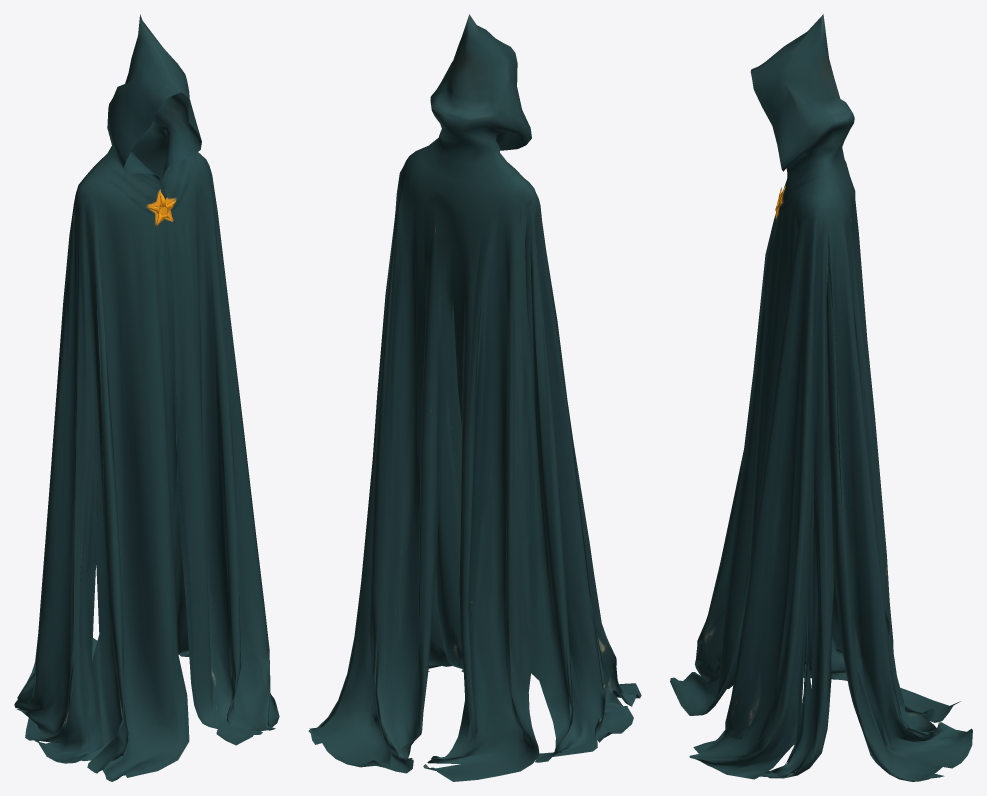
Rendered from dusk-cloak_refine.glb.
The picture shows the model from 3 angles, left to right: view 1: azimuth 30°, elevation 25°; view 2: azimuth 150°, elevation 25°; view 3: azimuth 270°, elevation 25°; orthographic projection. The views are drawn at different scales.
Bounding box in the file's own units: 0.3291 × 0.9521 × 0.3643.
Materials: 1 (1 with a texture image).
